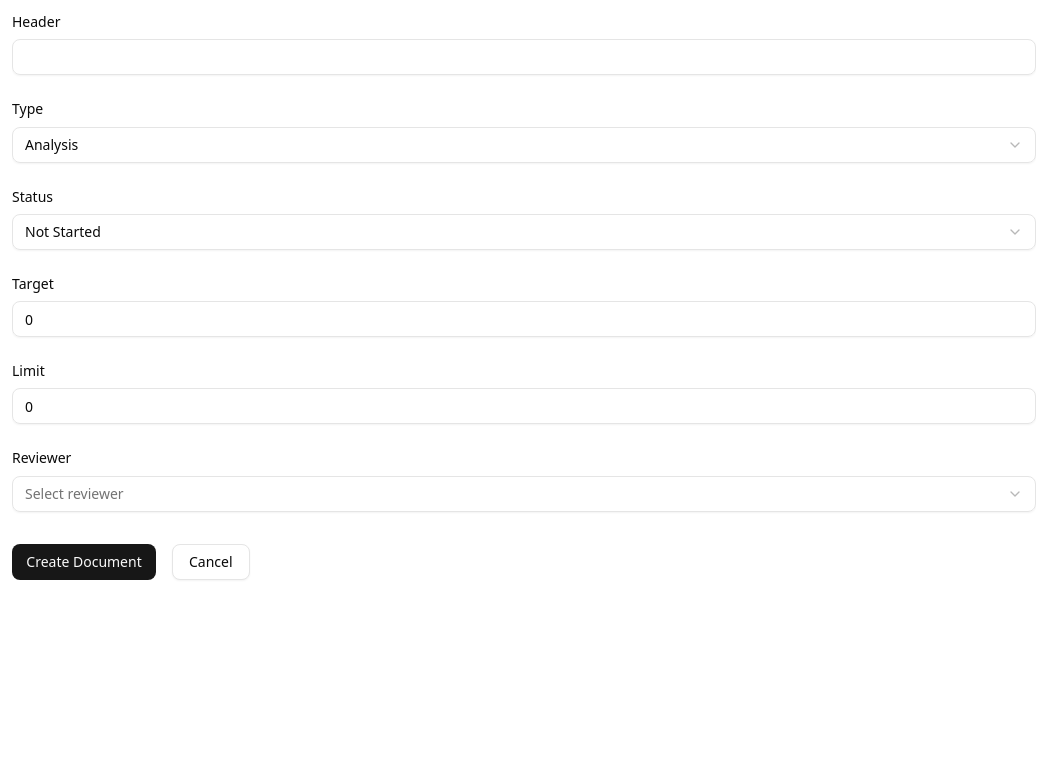
Test case: DocumentForm › validates fields and shows errors › header is required
Click the button with aria-label "submit".
click(84, 562)  # box left=12, top=544, right=156, bottom=580
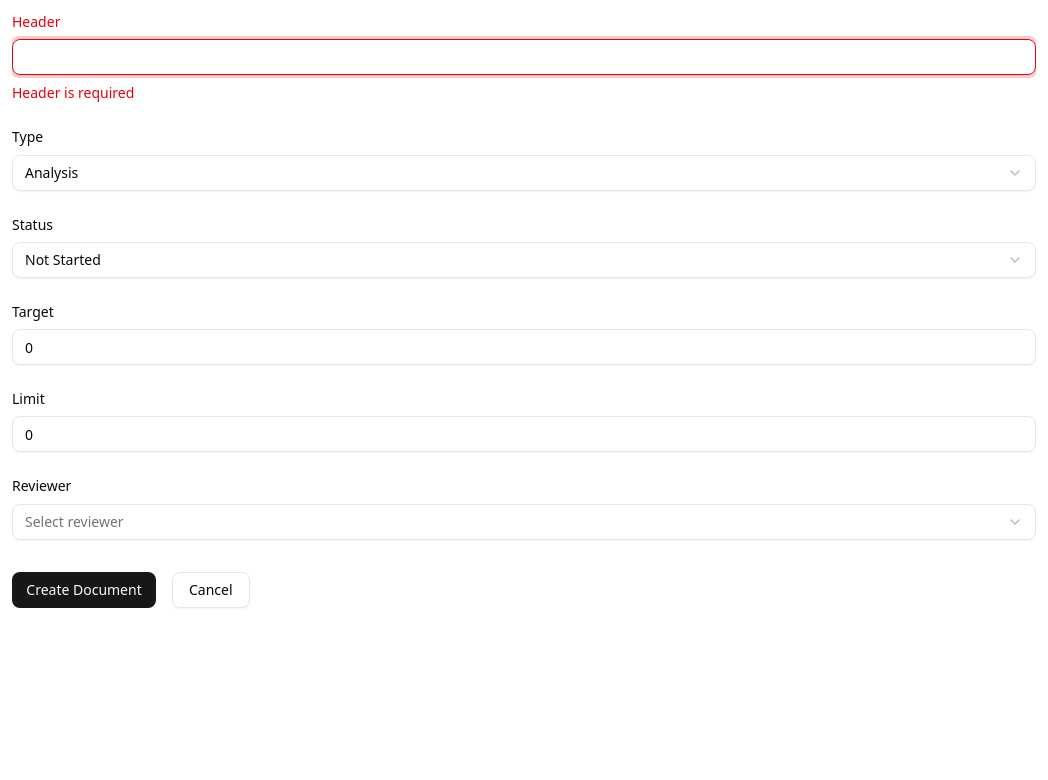
Expected: the text "Header is required" is shown, left=12, top=83, right=134, bottom=102
